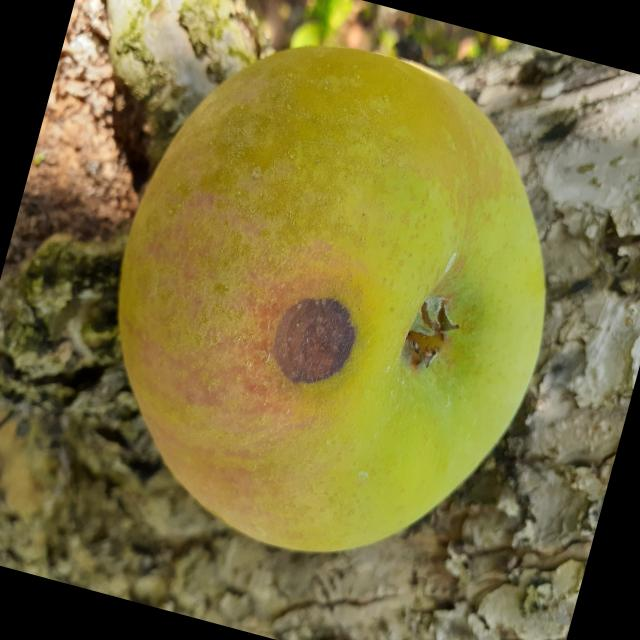rotten: (51, 1, 613, 612)
